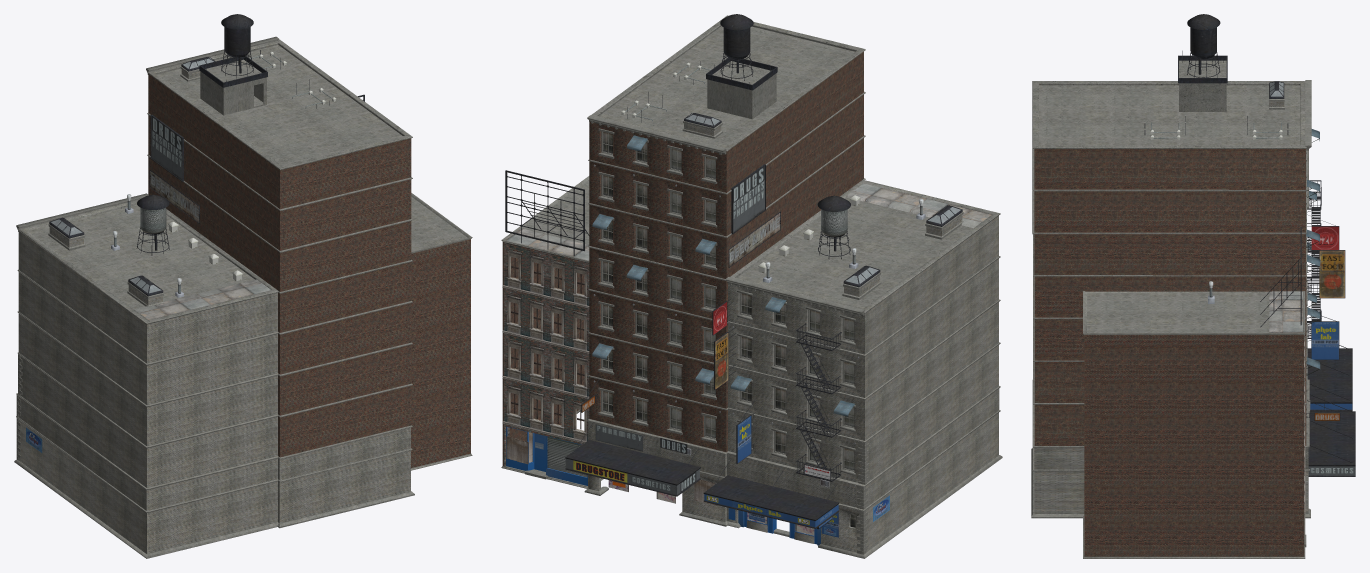
File: u2SEBuild2.gltf
The picture shows the model from 3 angles, left to right: view 1: azimuth 30°, elevation 25°; view 2: azimuth 150°, elevation 25°; view 3: azimuth 270°, elevation 25°; orthographic projection. The views are drawn at different scales.
Parts seen in each view (by area): view 1: u2SEBuild2; view 2: u2SEBuild2; view 3: u2SEBuild2.
Boxes of the visible parts, x1,y1,x2,y2 form: u2SEBuild2: (14,14,472,558); u2SEBuild2: (501,14,1002,558); u2SEBuild2: (1031,14,1355,558).
Bounding box in the file's own units: 13.04 × 15.8 × 10.17.
26 materials, 25 textured.
